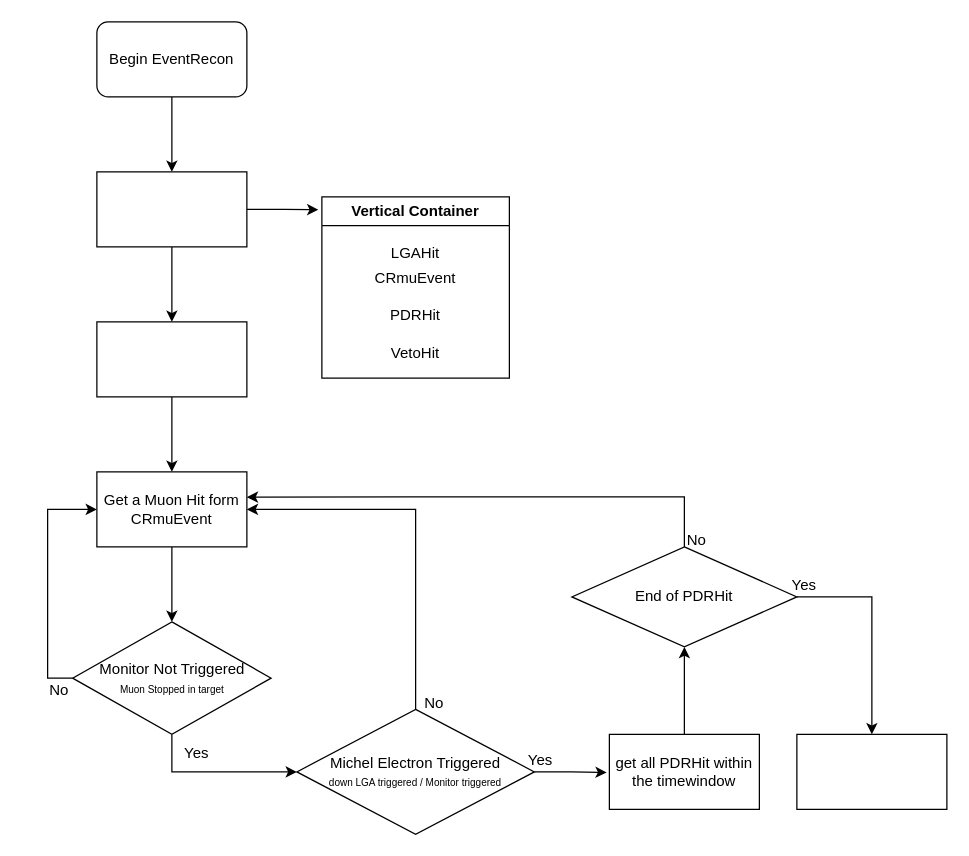
Some shapes in this 969 by 856 pixel diagram are drawn without their labels. Here are the shapes that lost their labels. From the top down, the centre of each, then its label:
At point 171,209: "Import Hit Renconstruction Data".
At point 171,359: "Initialized EventID".
At point 871,771: "Output Event Data".
